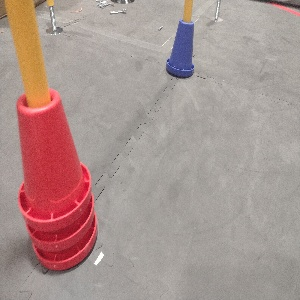Blue_1: (165, 18, 195, 78)
Red_3: (15, 87, 98, 272)
